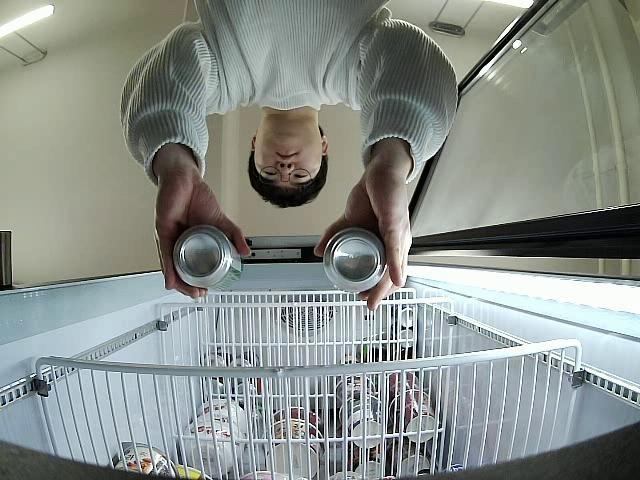12_chilsungCider: (172, 224, 244, 290), (324, 225, 389, 294)
